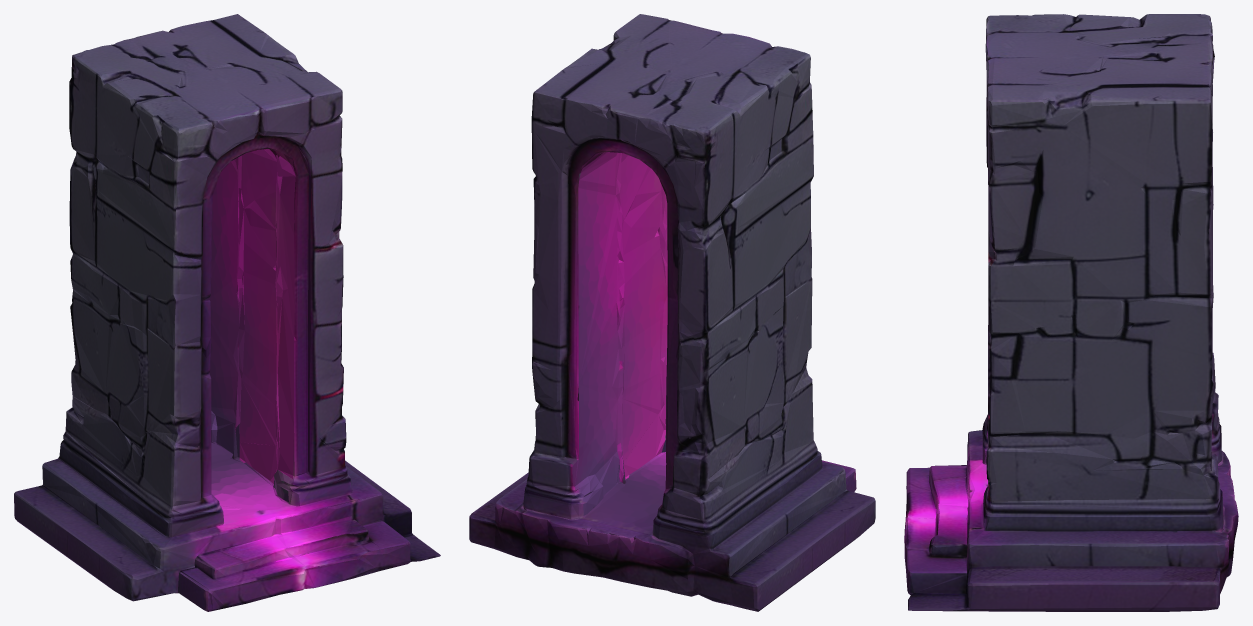
File: solitude-pillar-12.collider.glb
The picture shows the model from 3 angles, left to right: view 1: azimuth 30°, elevation 25°; view 2: azimuth 150°, elevation 25°; view 3: azimuth 270°, elevation 25°; orthographic projection. The views are drawn at different scales.
Visible parts, largest first — view 1: temp_mesh.ply; view 2: temp_mesh.ply; view 3: temp_mesh.ply.
Boxes of the visible parts, box(x1,y1,x2,y2) form: temp_mesh.ply: box(14, 14, 440, 611); temp_mesh.ply: box(469, 14, 875, 611); temp_mesh.ply: box(904, 14, 1238, 611).
Size of the model in its own units: 1.28 by 1.97 by 1.24.
1 material, 1 textured.
